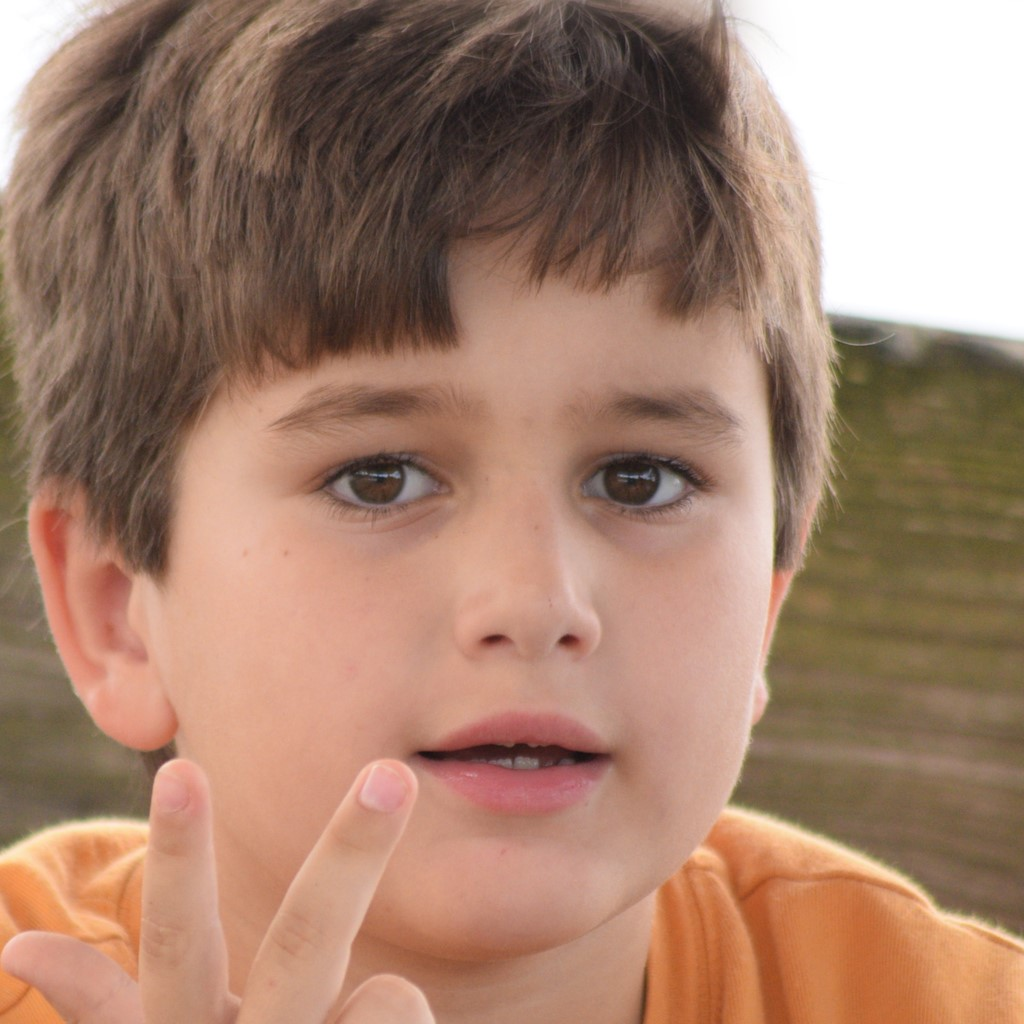sin_mascara: (125, 55, 770, 946)
